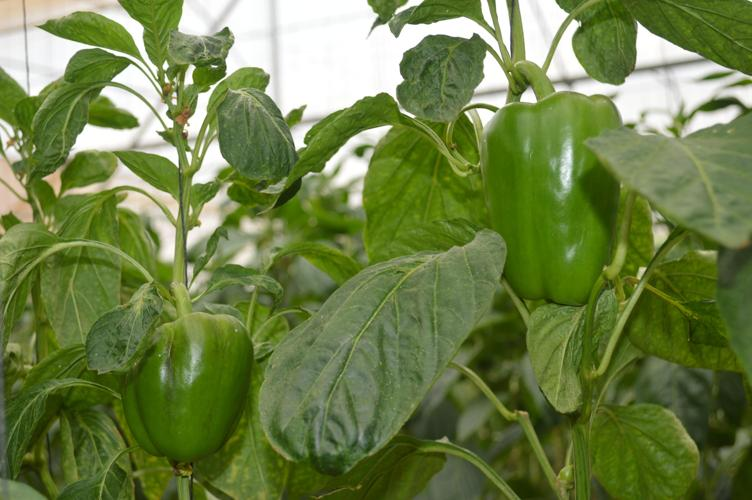BellPepper: (486, 90, 618, 300), (117, 313, 248, 455)
